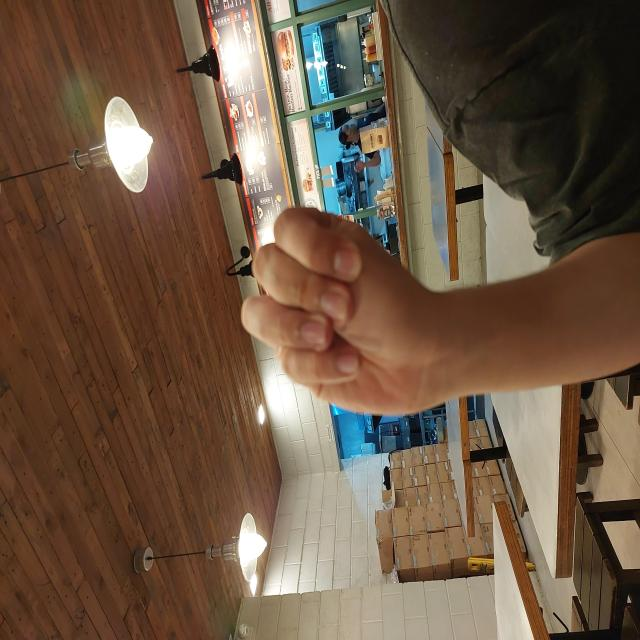M: (222, 240, 436, 433)
